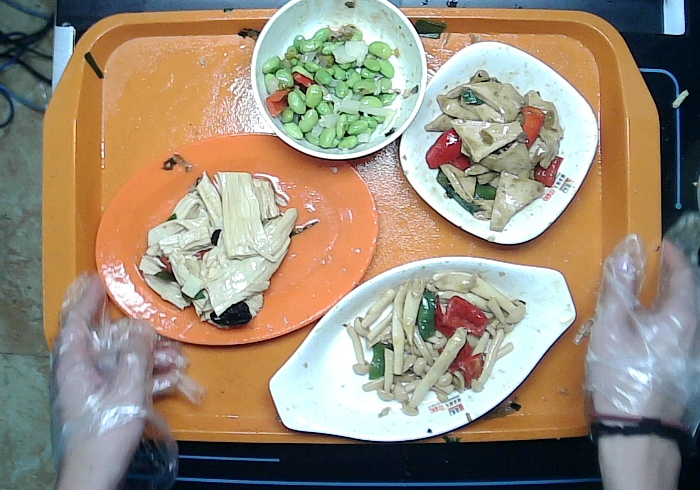NLDX-Bai_Se_Xiao_Fang_Die: (393, 37, 600, 248)
NLDX-Fan_Wan: (246, 1, 433, 165)
NLDX-Ju_Se_Pan: (93, 128, 385, 351)
NLDX-Yu_Pan: (263, 251, 582, 449)
